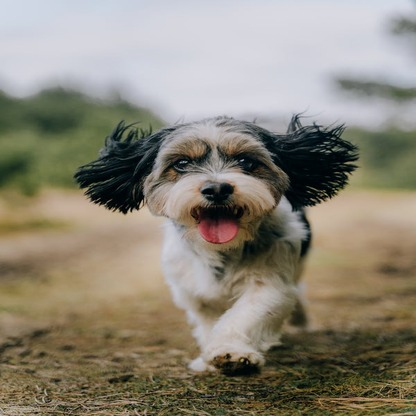yorkshire: (75, 112, 362, 374)
